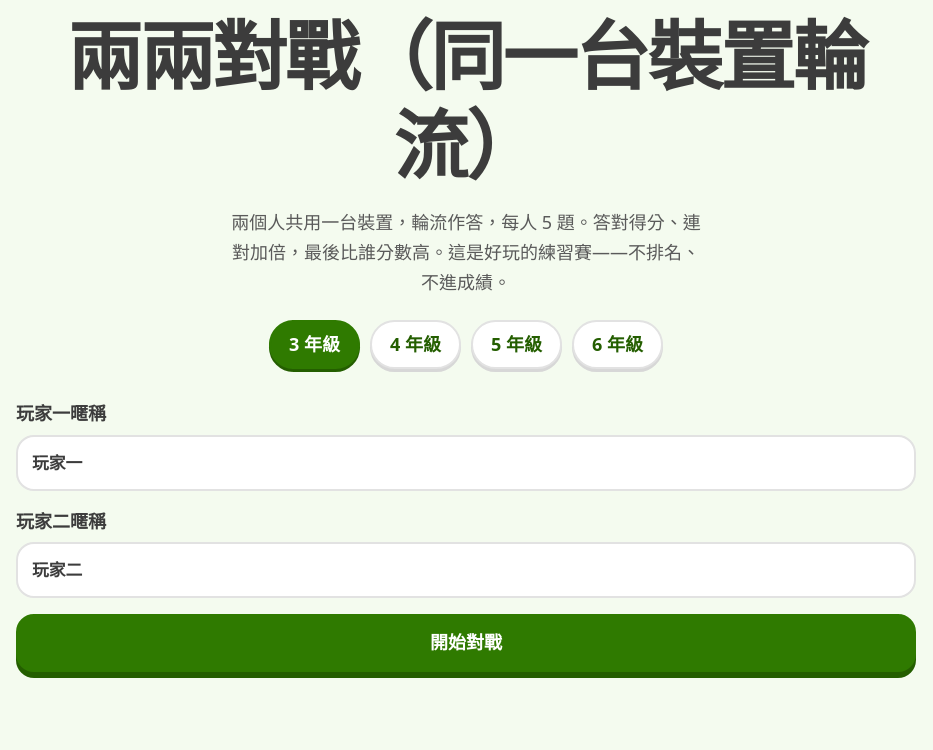
Test case: VersusPage › shows a hand-off screen before the first player answers
(page scrolled)
Click the button "開始對戰". click: (466, 643)
box: x1=16 y1=614 x2=916 y2=672
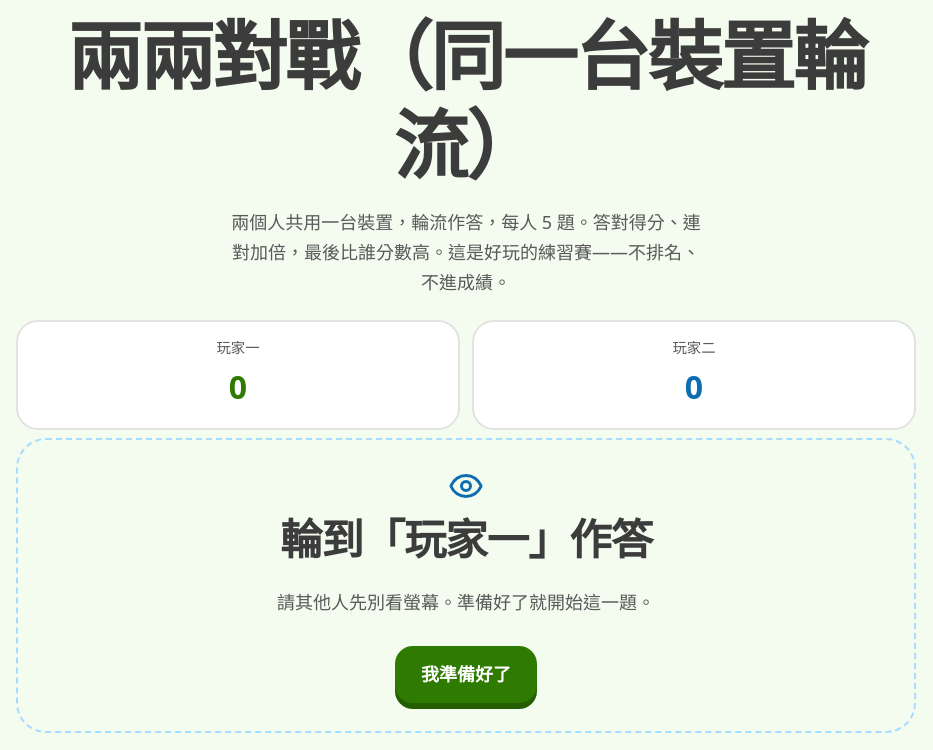
expect the heading "輪到「玩家一」作答" is shown: met, box x1=280 y1=514 x2=652 y2=564
expect the button "我準備好了" is shown: met, box x1=395 y1=646 x2=537 y2=704
